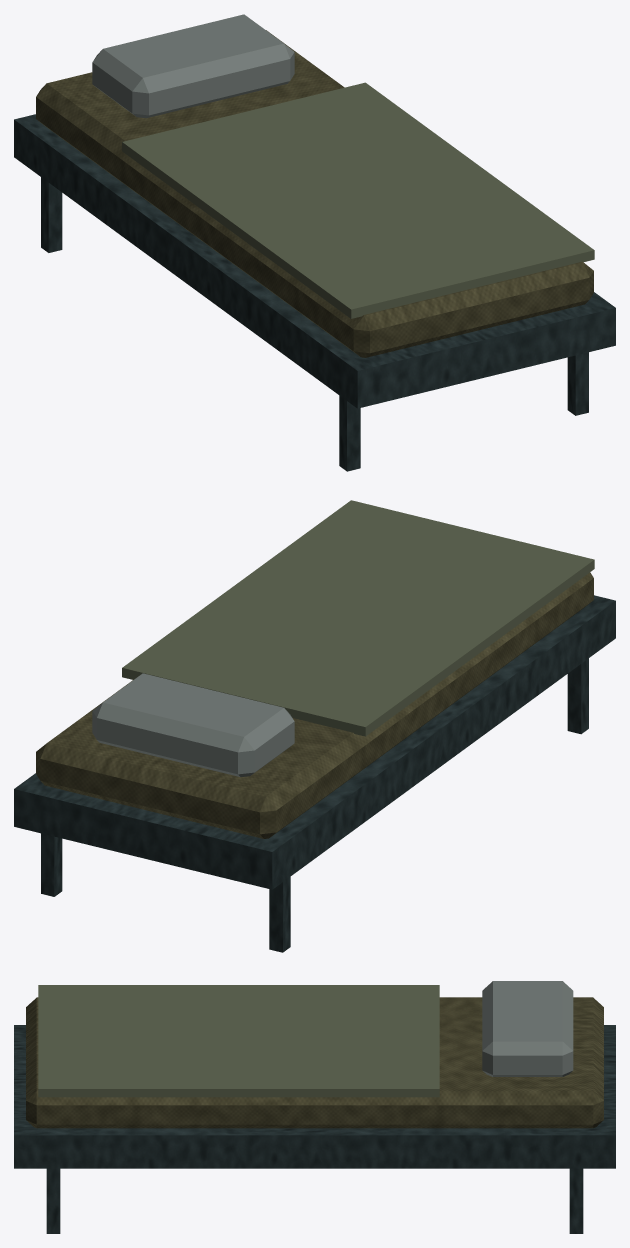
Rendered from Bed_Field.glb.
The picture shows the model from 3 angles, top to bottom: view 1: azimuth 30°, elevation 25°; view 2: azimuth 150°, elevation 25°; view 3: azimuth 270°, elevation 25°; orthographic projection. The views are drawn at different scales.
Visible parts, largest first — view 1: Bed_Field; view 2: Bed_Field; view 3: Bed_Field.
Part boxes in pixels (x1,y1,x2,y2): Bed_Field: (14,14,615,471); Bed_Field: (14,500,615,952); Bed_Field: (14,981,615,1233).
Size of the model in its own units: 0.86 by 0.62 by 1.98.
4 materials, 2 textured.
